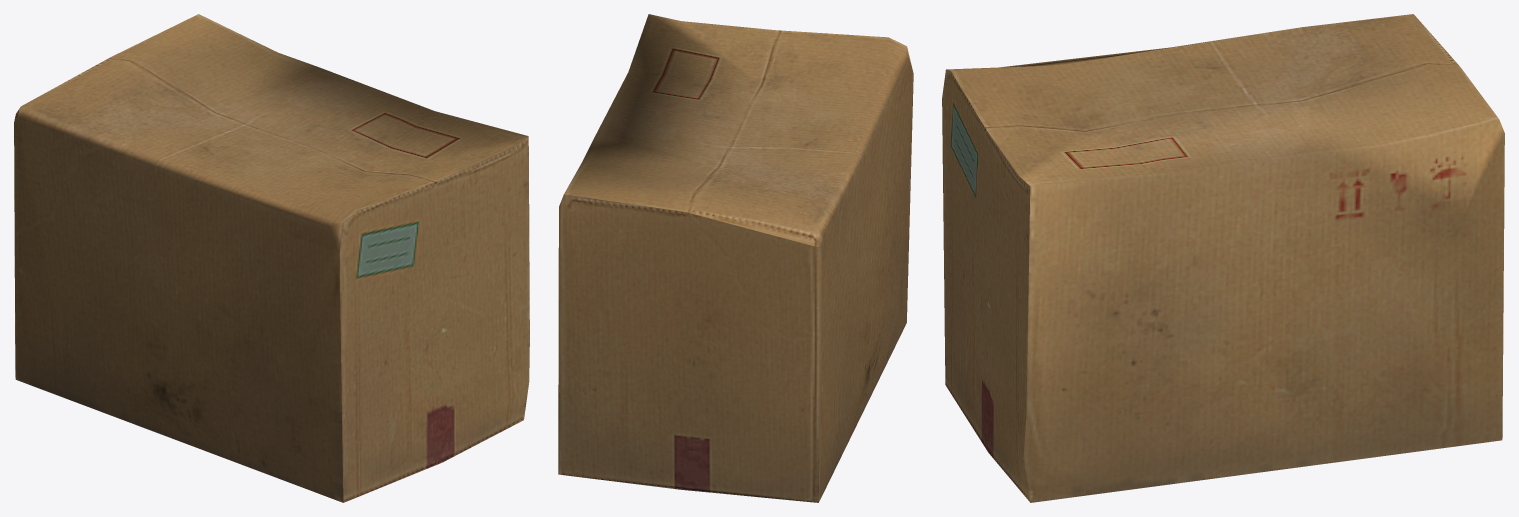
File: Cardboard box.fbx
3 renders of one model, left to right at view 1: azimuth 30°, elevation 25°; view 2: azimuth 150°, elevation 25°; view 3: azimuth 270°, elevation 25°, orthographic. The views are drawn at different scales.
Visible parts, largest first — view 1: Cardboard_box; view 2: Cardboard_box; view 3: Cardboard_box.
Boxes of the visible parts, <box> form: Cardboard_box: <box>14,14,529,502</box>; Cardboard_box: <box>558,14,913,502</box>; Cardboard_box: <box>942,14,1504,502</box>.
Size of the model in its own units: 66 by 52.84 by 82.82.
Materials: 1 (1 with a texture image).
